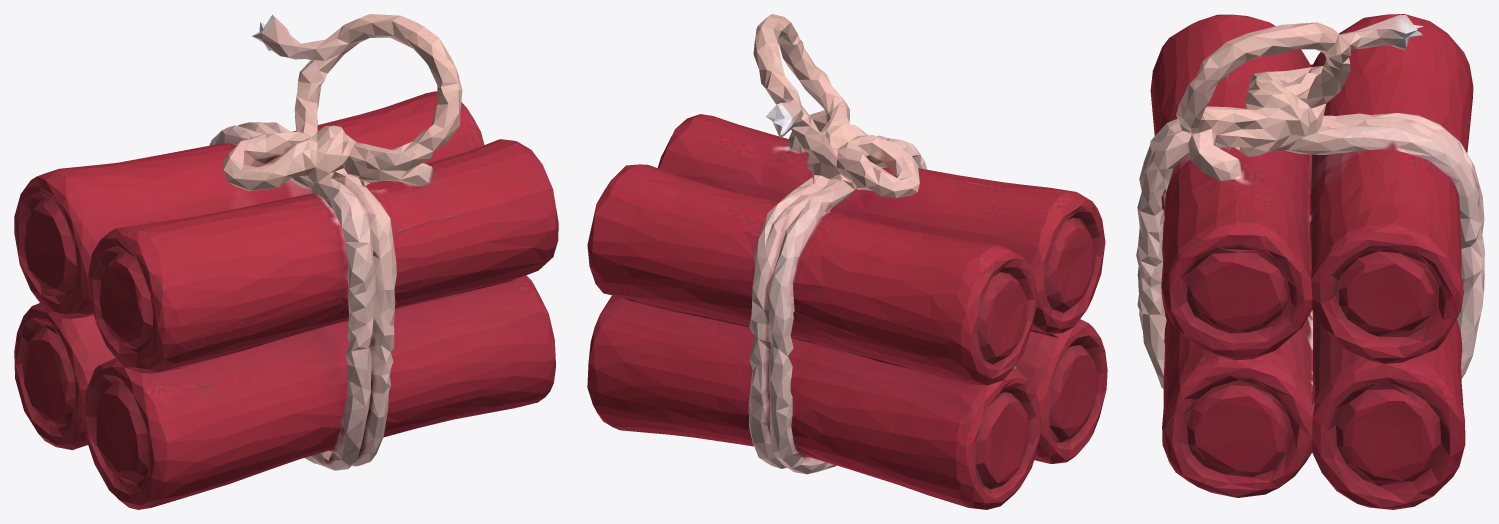
File: dynamite_bundle.glb
The picture shows the model from 3 angles, left to right: view 1: azimuth 30°, elevation 25°; view 2: azimuth 150°, elevation 25°; view 3: azimuth 270°, elevation 25°; orthographic projection. The views are drawn at different scales.
Parts seen in each view (by area): view 1: tmpdabxf6zt.ply; view 2: tmpdabxf6zt.ply; view 3: tmpdabxf6zt.ply.
Part boxes in pixels (box(x1,y1,x2,y2)): tmpdabxf6zt.ply: box(14, 14, 558, 509); tmpdabxf6zt.ply: box(587, 14, 1107, 509); tmpdabxf6zt.ply: box(1136, 14, 1484, 509).
Bounding box in the file's own units: 2 × 1.91 × 1.35.
Materials: 1 (1 with a texture image).
